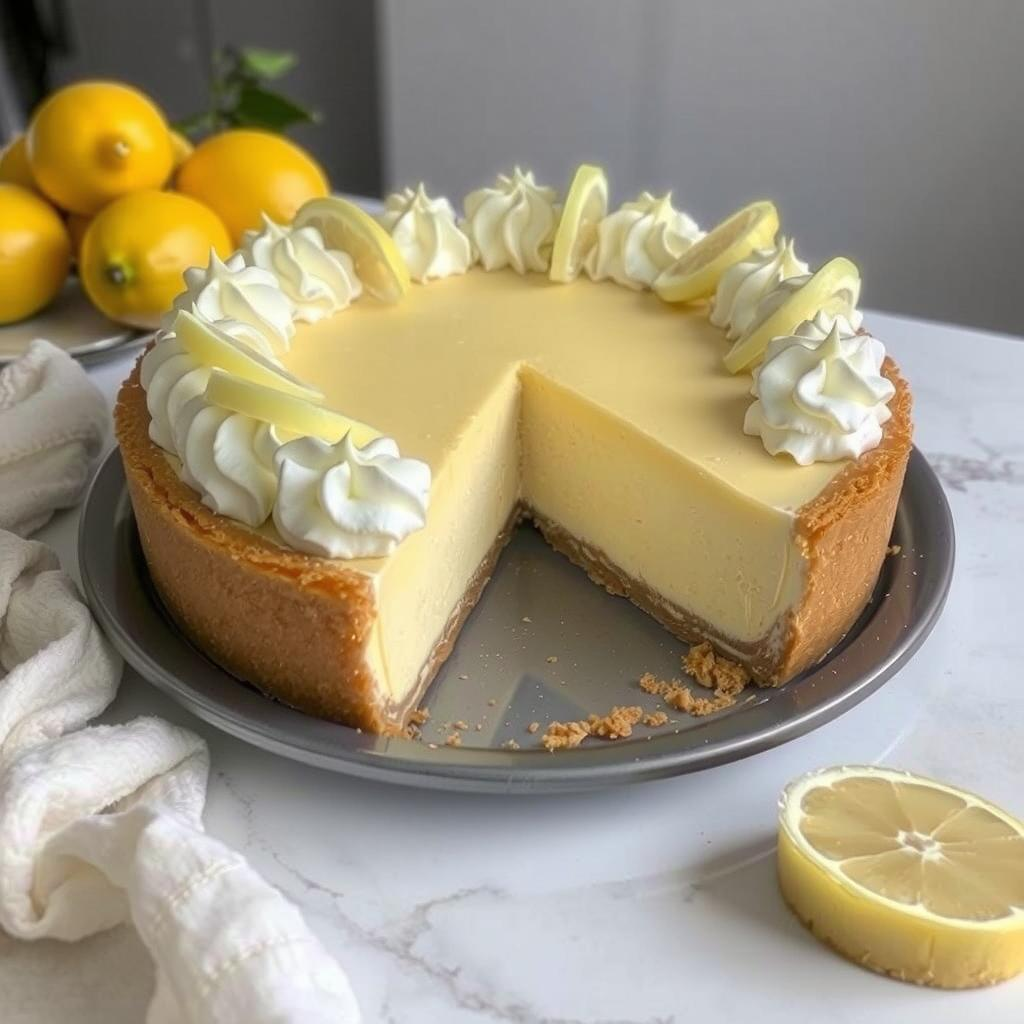pie: (103, 154, 930, 743)
